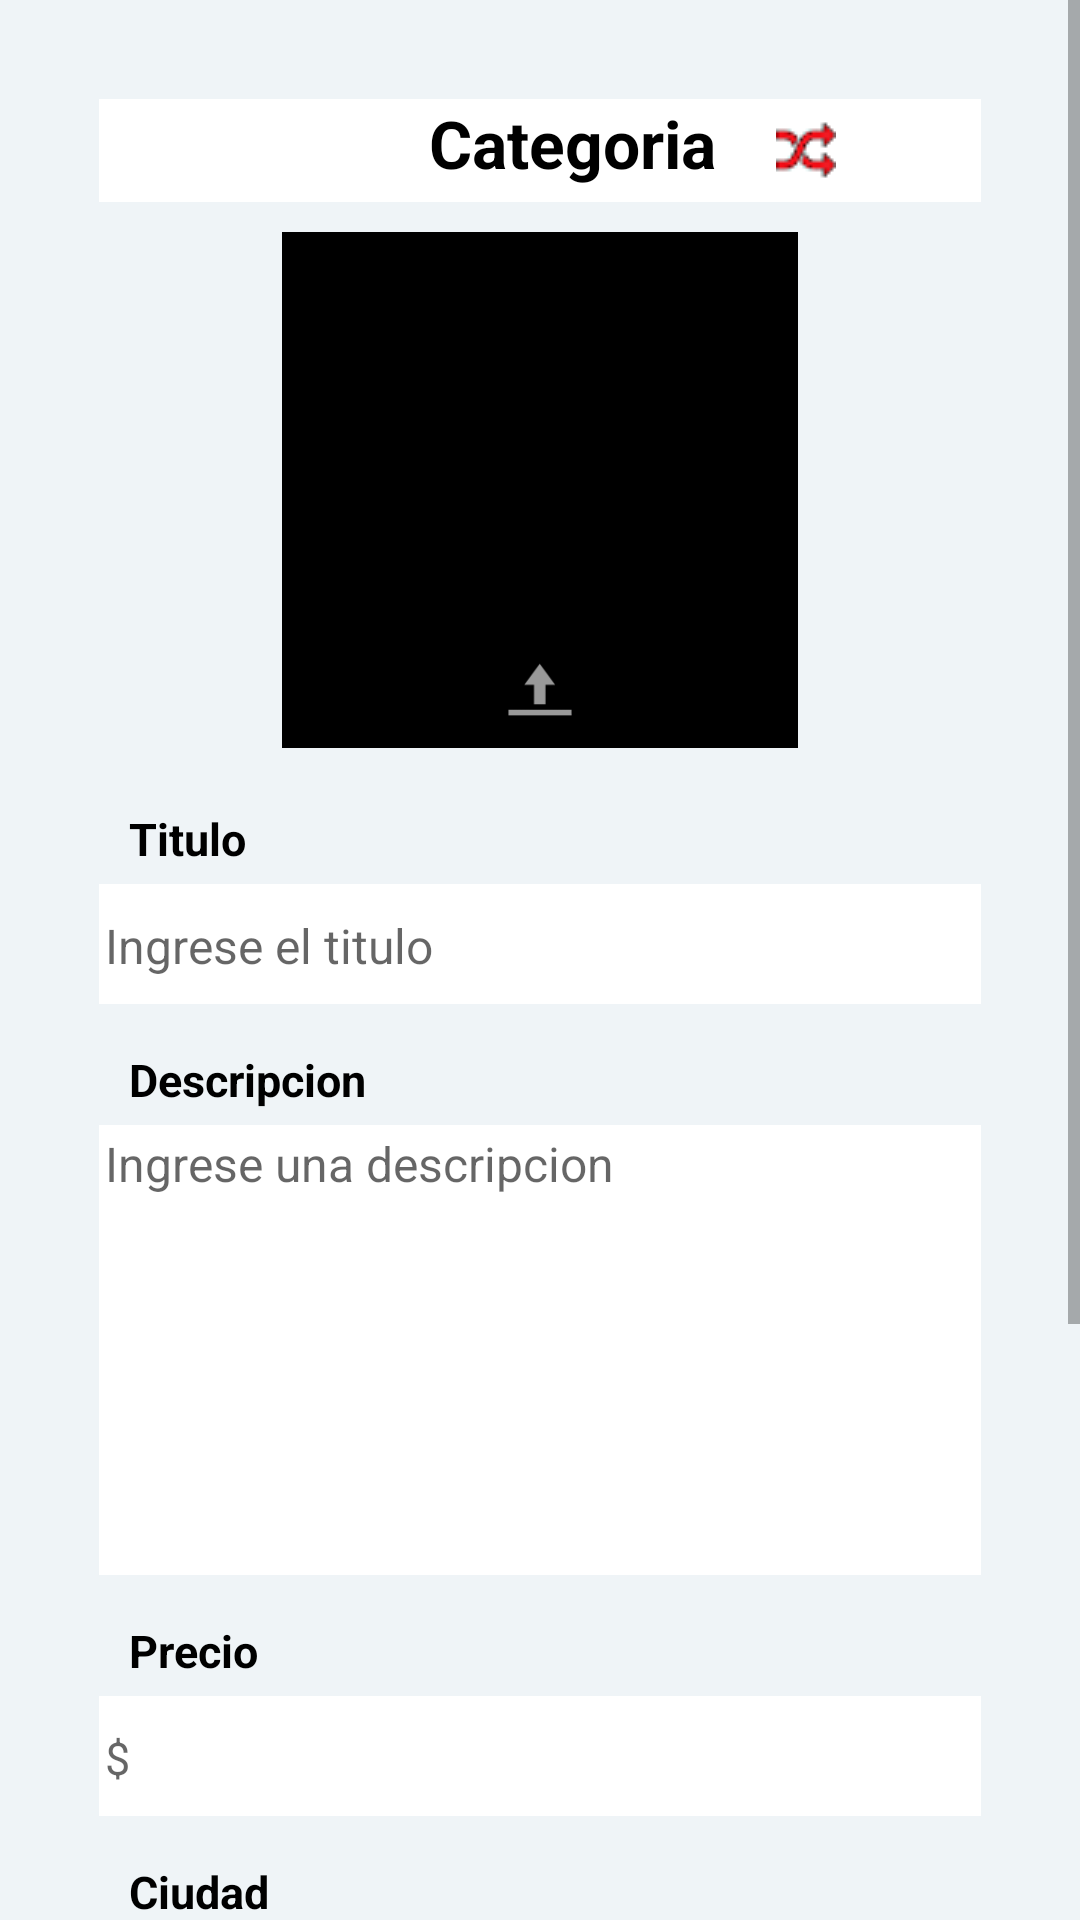

Locate icon controls on the screen. Image size 1080 x 1920, boxes as (x1, y1, x2, y2).
cambiar: (776, 122, 836, 178)
upload: (508, 664, 572, 716)
